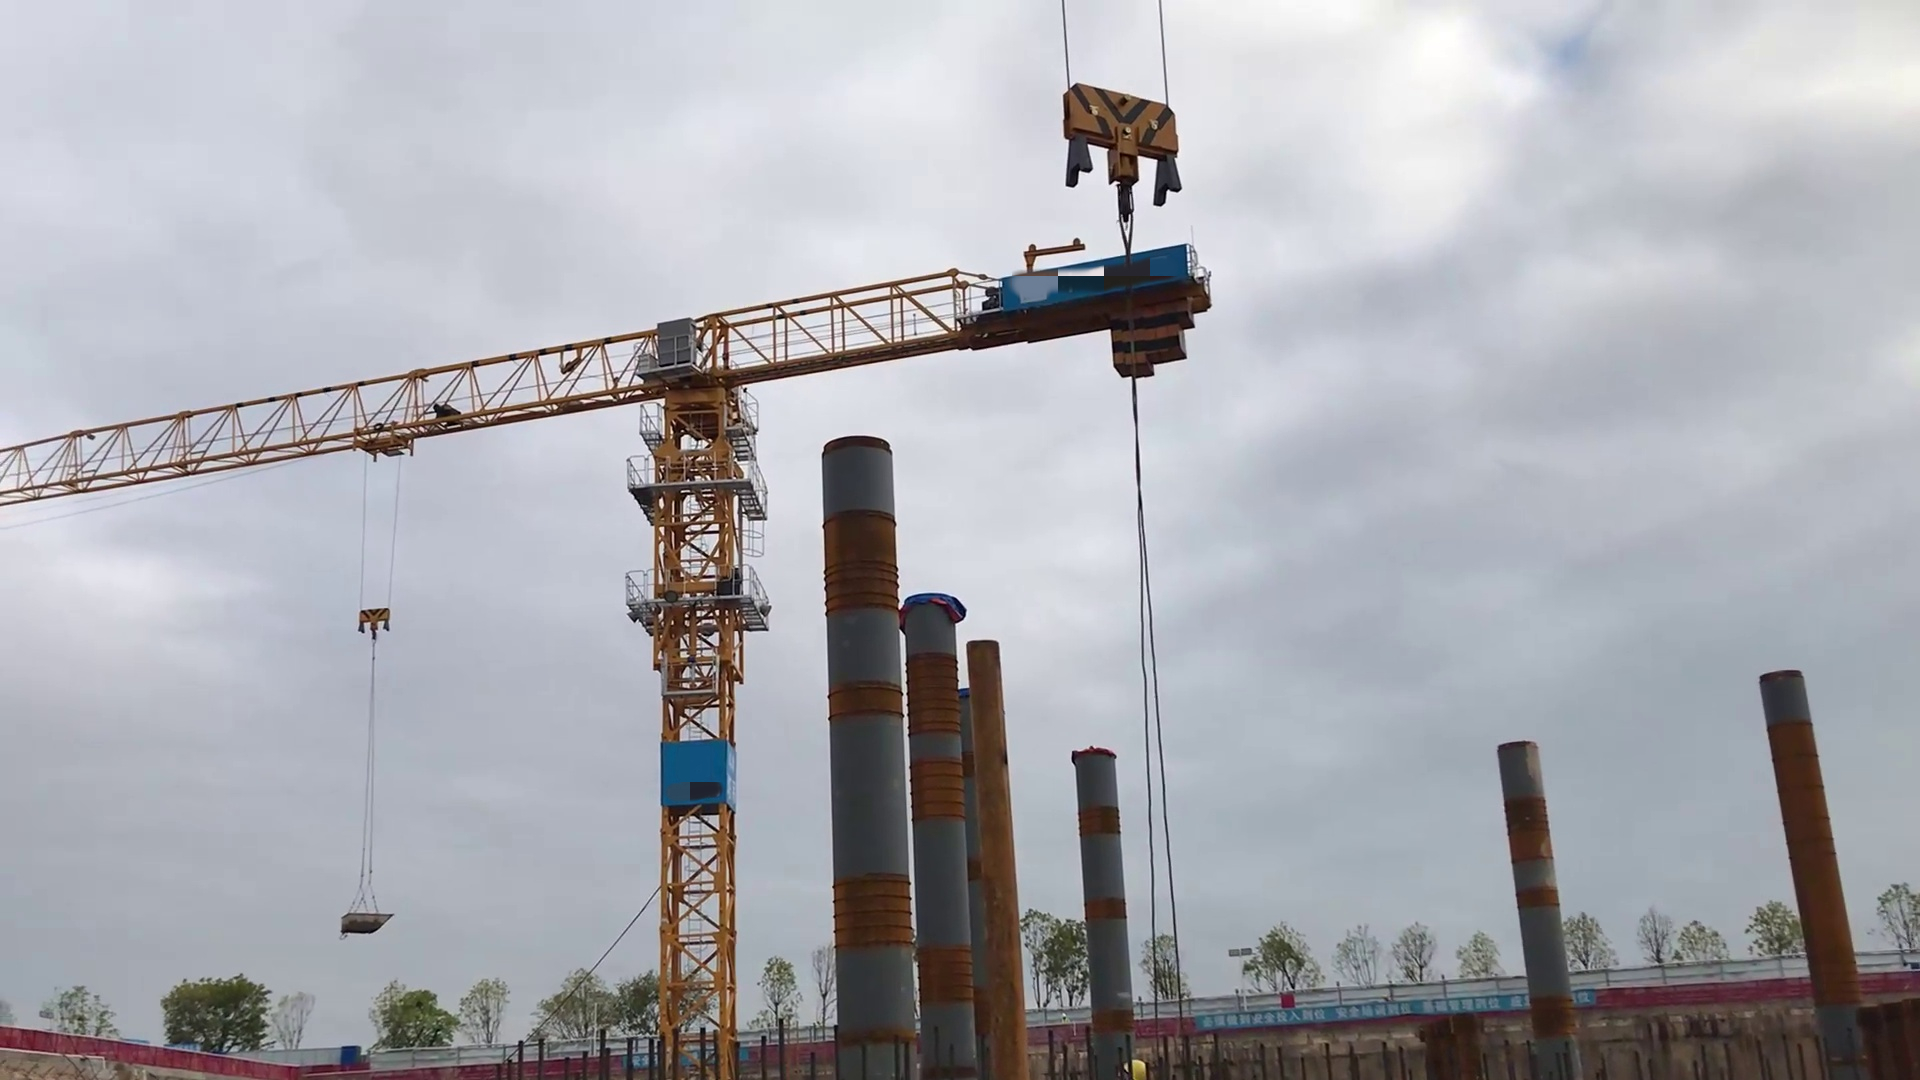helmet: (1120, 1058, 1149, 1080)
hook: (1048, 71, 1191, 227), (355, 603, 394, 644)
slogan: (1196, 988, 1596, 1031)
